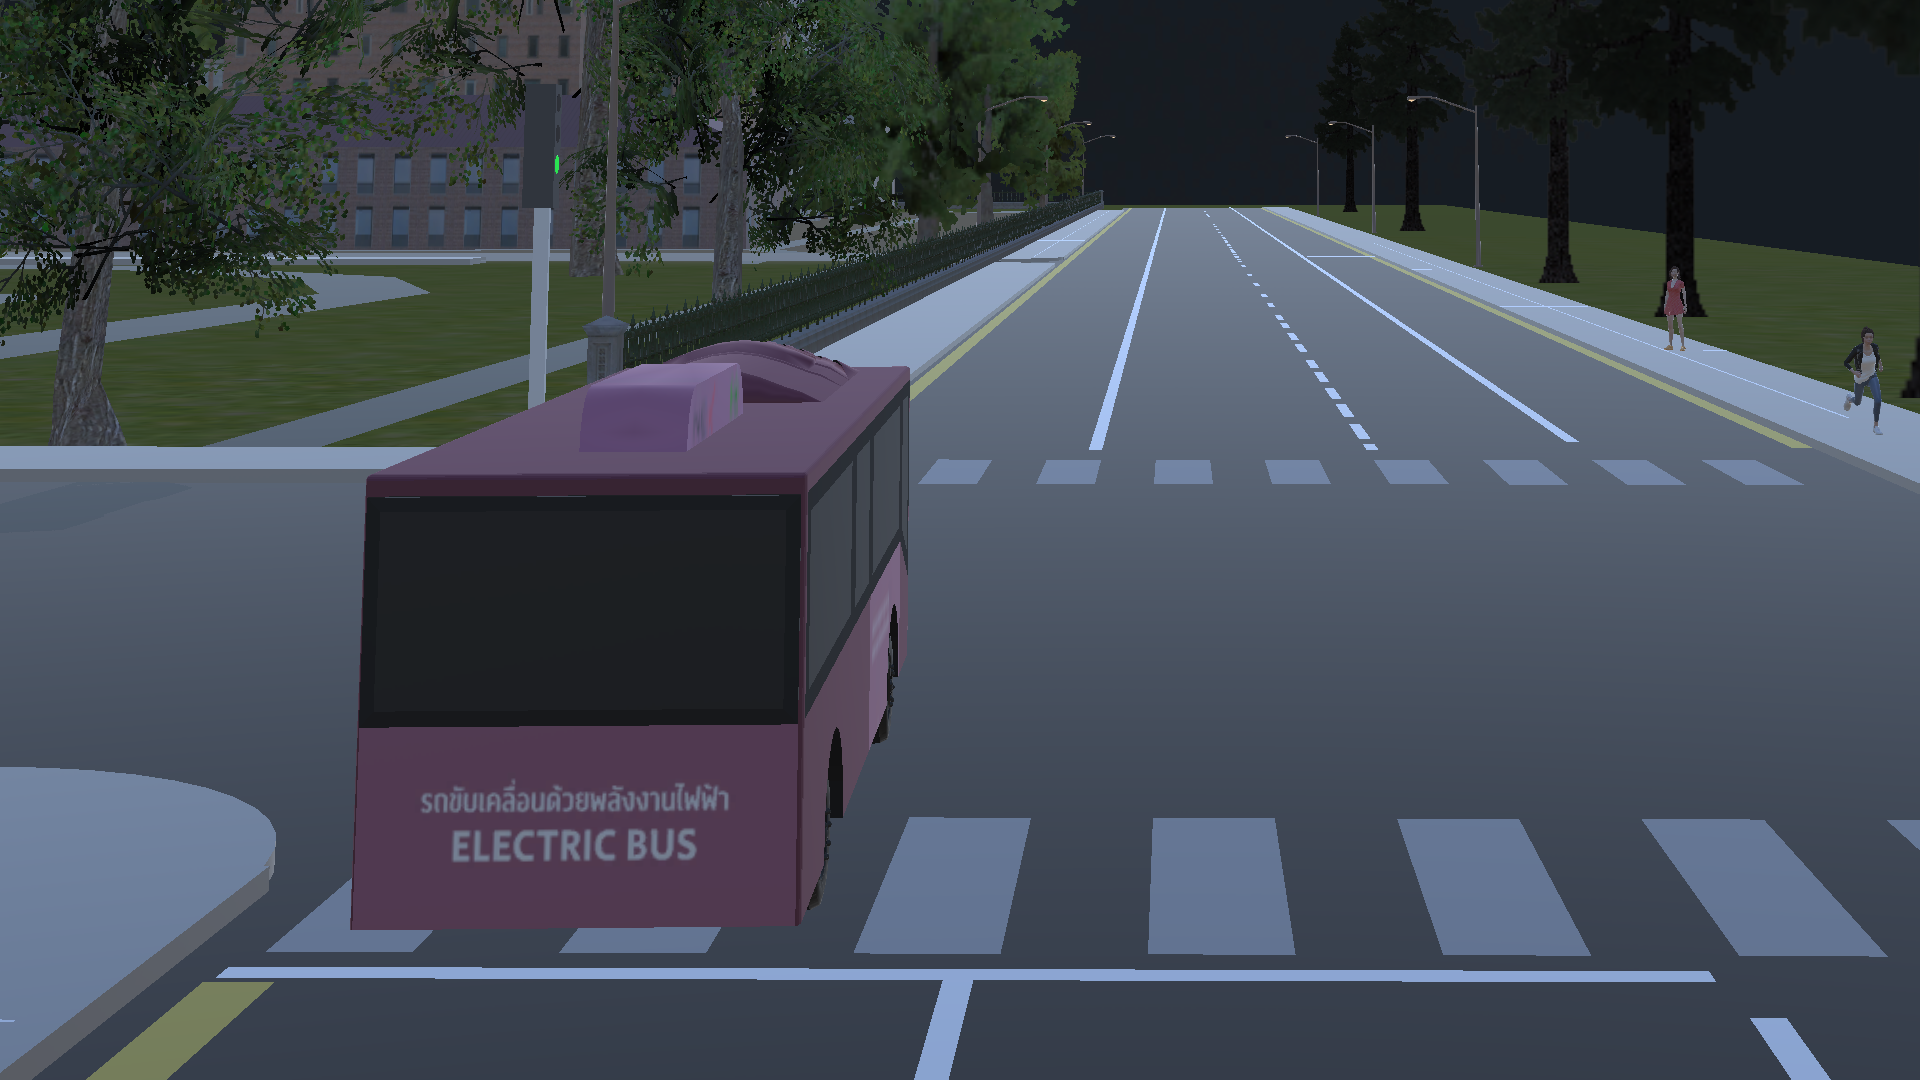pedestrian: (1839, 326, 1898, 440), (1658, 258, 1692, 350)
